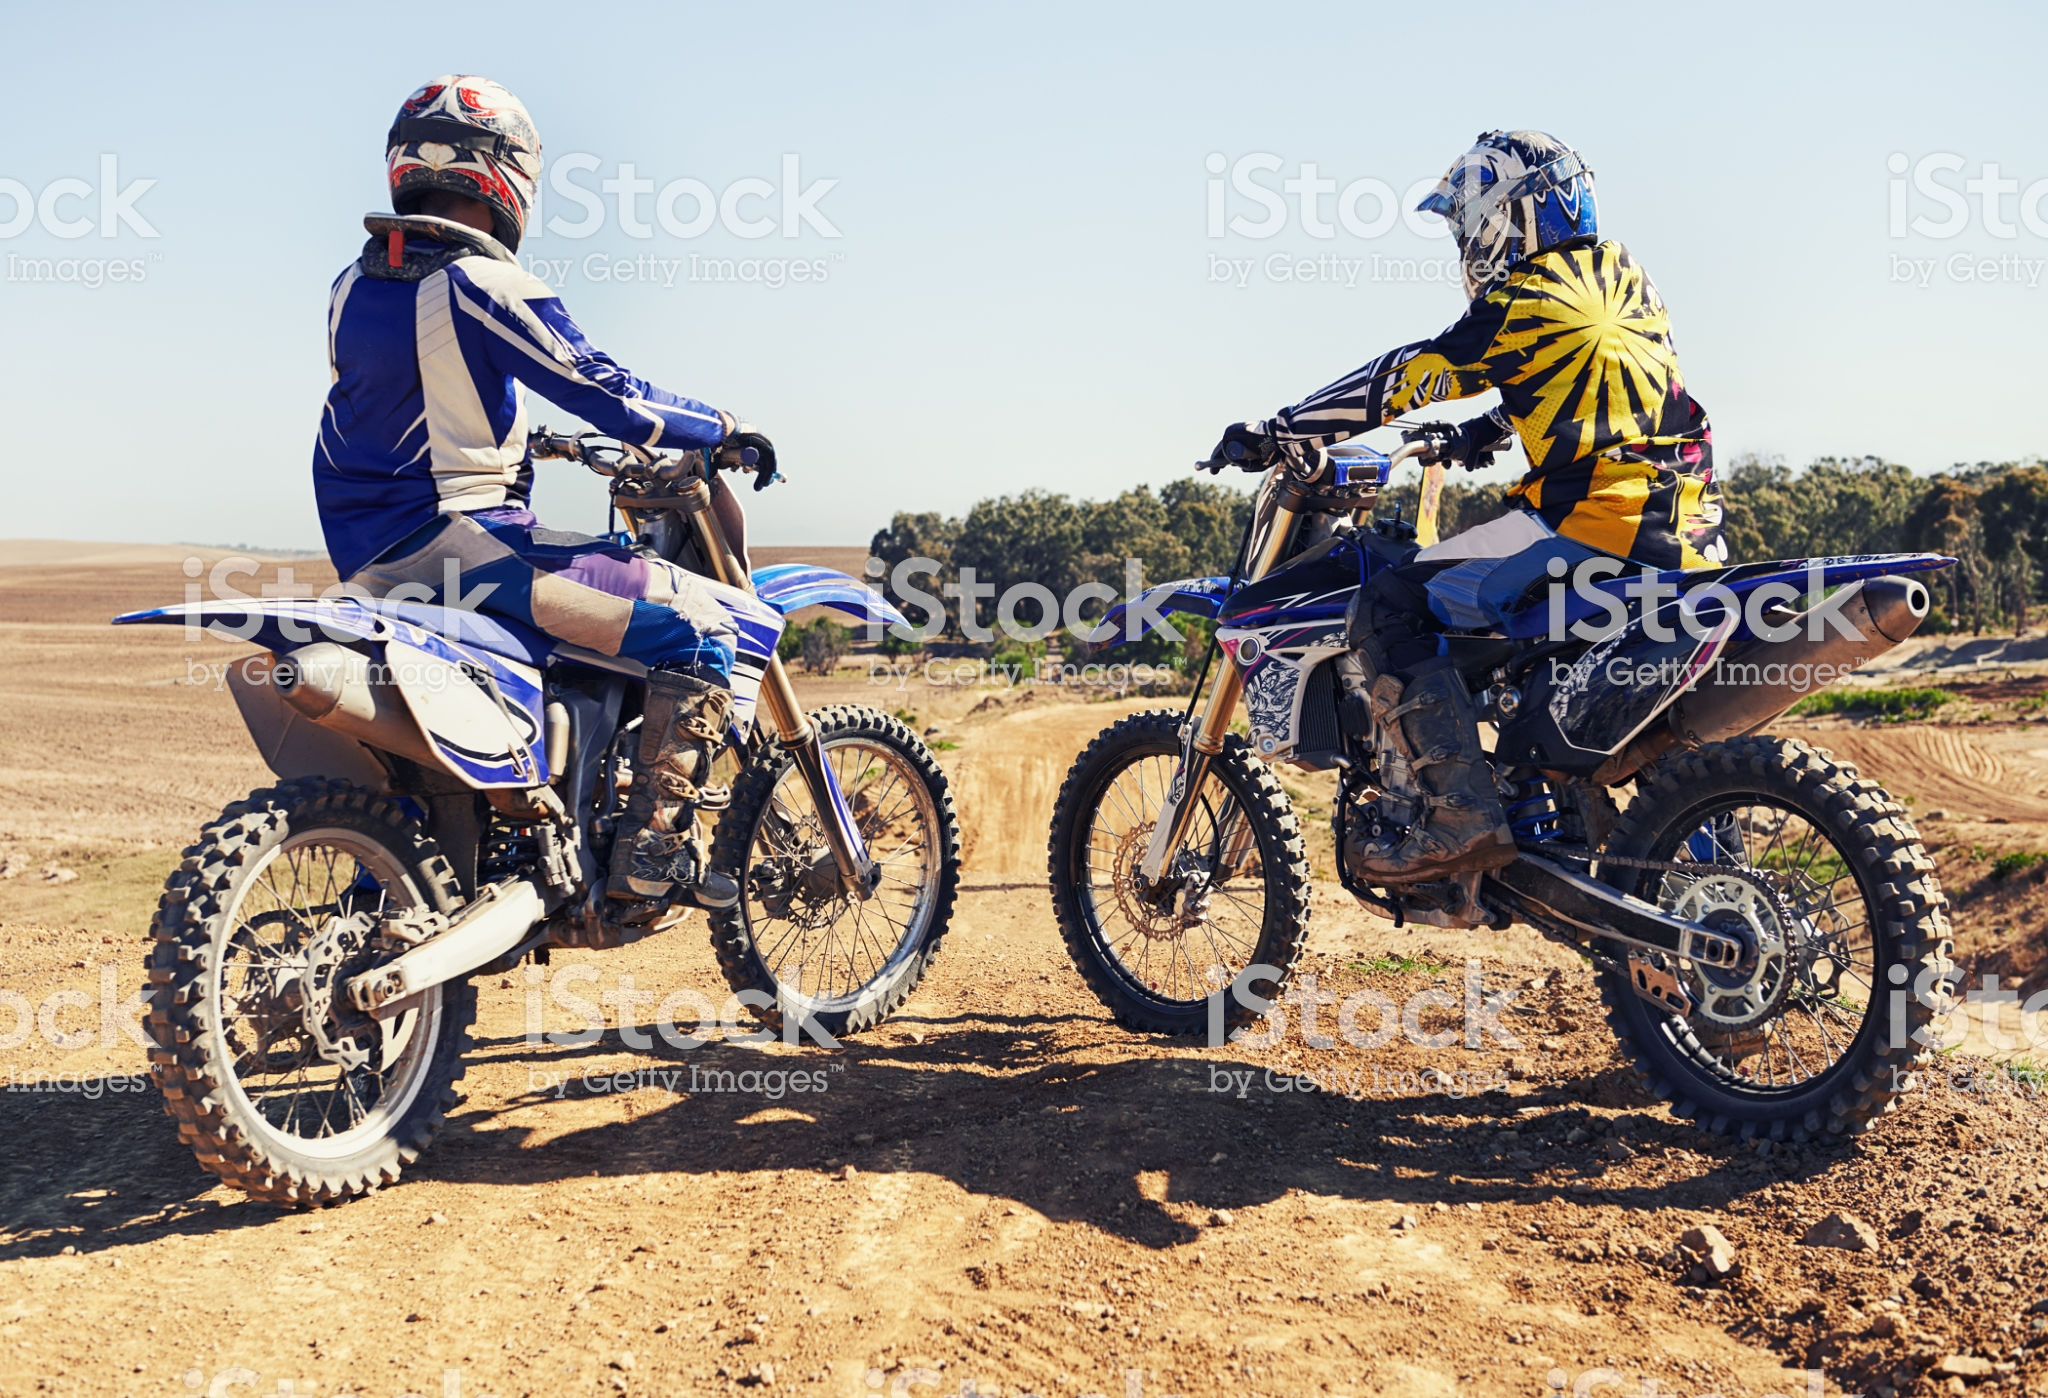helmet: (1435, 121, 1622, 280), (377, 67, 542, 234)
